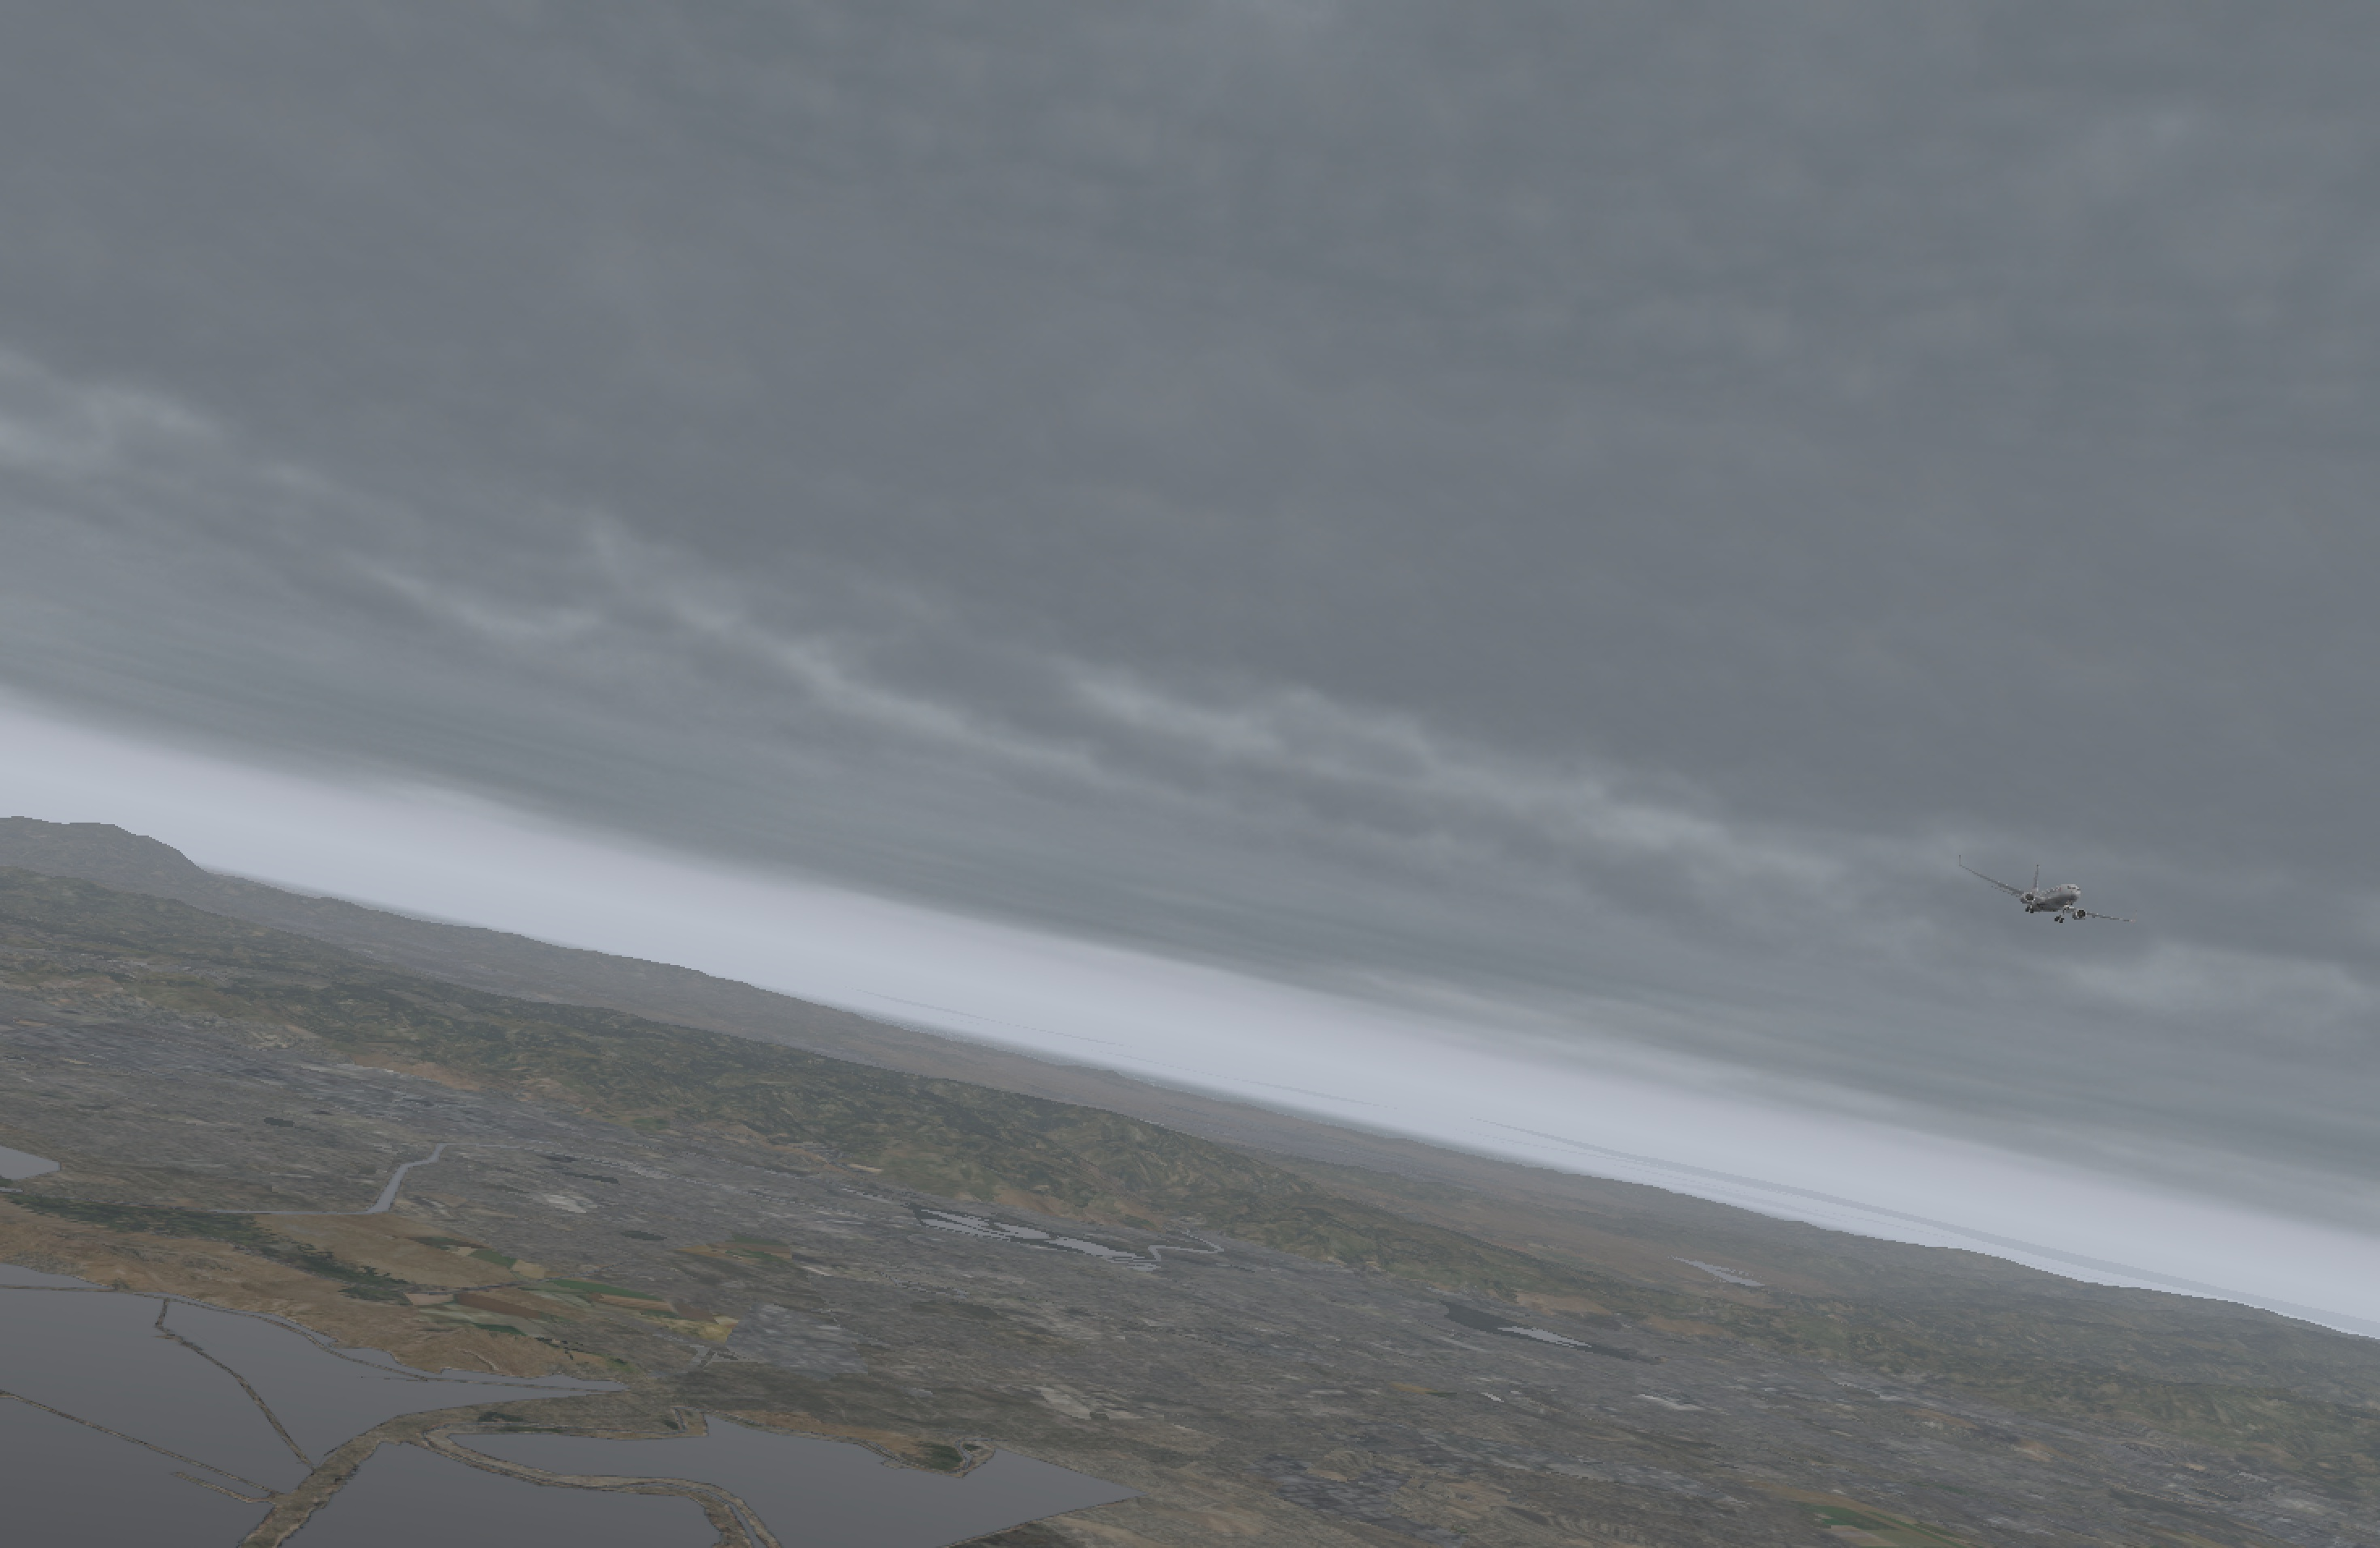aircraft: (1957, 868, 2144, 937)
